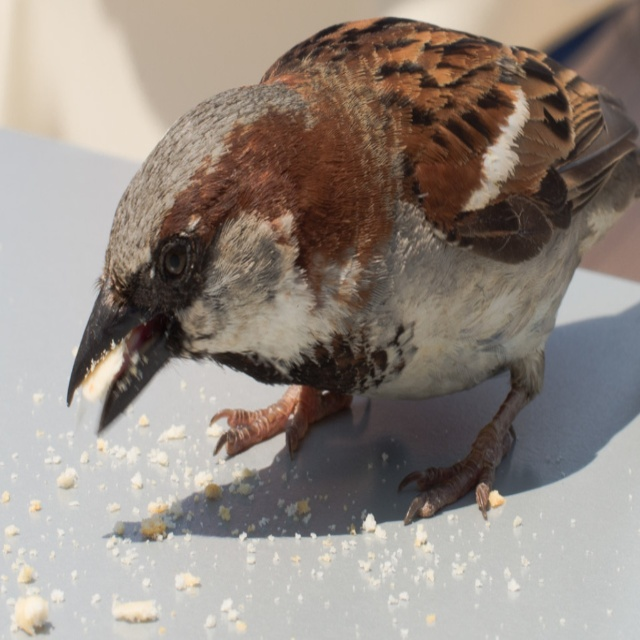Sparrow: (65, 12, 639, 529)
